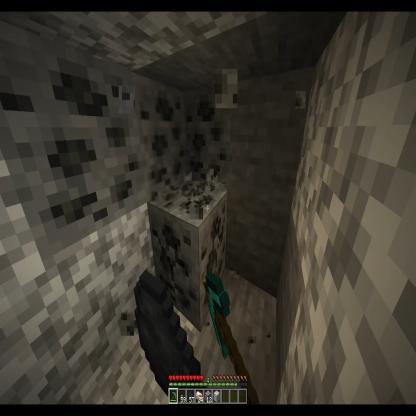coal ore: (0, 61, 136, 266), (148, 182, 229, 332), (134, 68, 188, 202), (185, 81, 229, 200)
